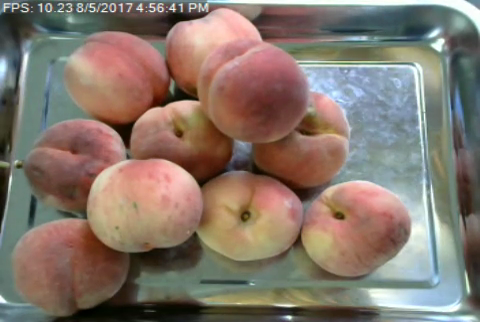Peach: (13, 215, 126, 317), (197, 38, 306, 142), (165, 8, 275, 110), (88, 156, 200, 252), (300, 180, 411, 276), (63, 29, 169, 125), (246, 88, 348, 184), (194, 171, 304, 259), (24, 118, 125, 207), (130, 99, 233, 179)
